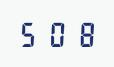eight: (69, 20, 93, 47)
five: (18, 20, 42, 47)
zero: (44, 20, 68, 47)
